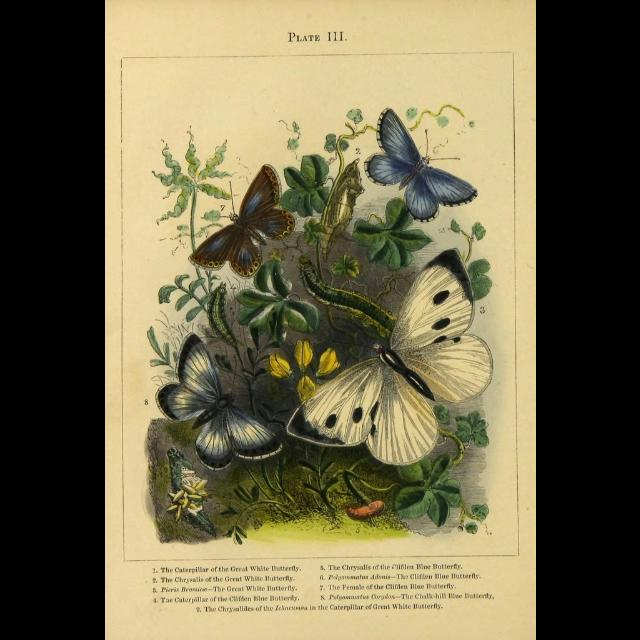Flower: (294, 344, 316, 376), (265, 354, 291, 376), (312, 348, 332, 376)
